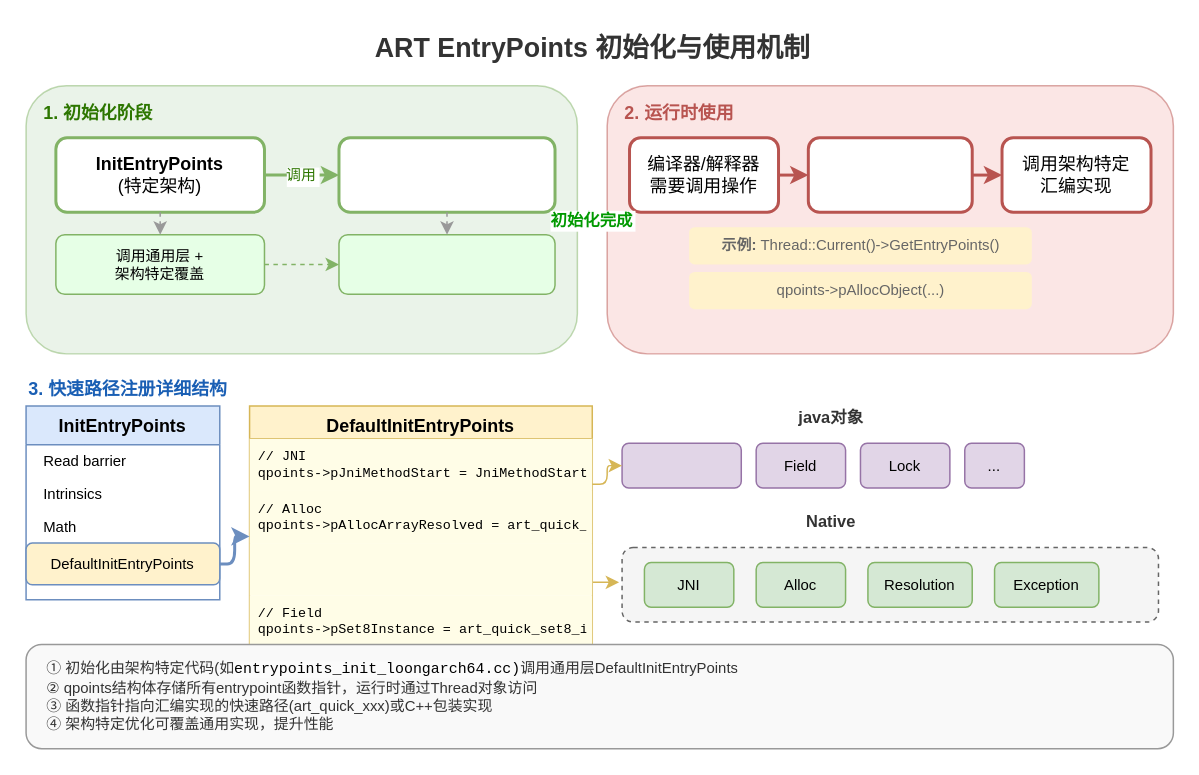
The diagram is 1199 pixels wide and 775 high, and some of its shapes have lost their labels. The box of each missing label's shape, as (x1, y1, x2, y2) in pixels:
// Resolution qpoints->pResolveType = art_quick_resolve_type;: (249, 542, 592, 595)
DefaultInitEntryPoints (通用层): (337, 136, 556, 213)
Initialization: (621, 442, 741, 488)
注册快速路径 (汇编符号绑定): (337, 233, 555, 294)
访问 entrypoints 获取函数指针: (806, 136, 973, 213)
